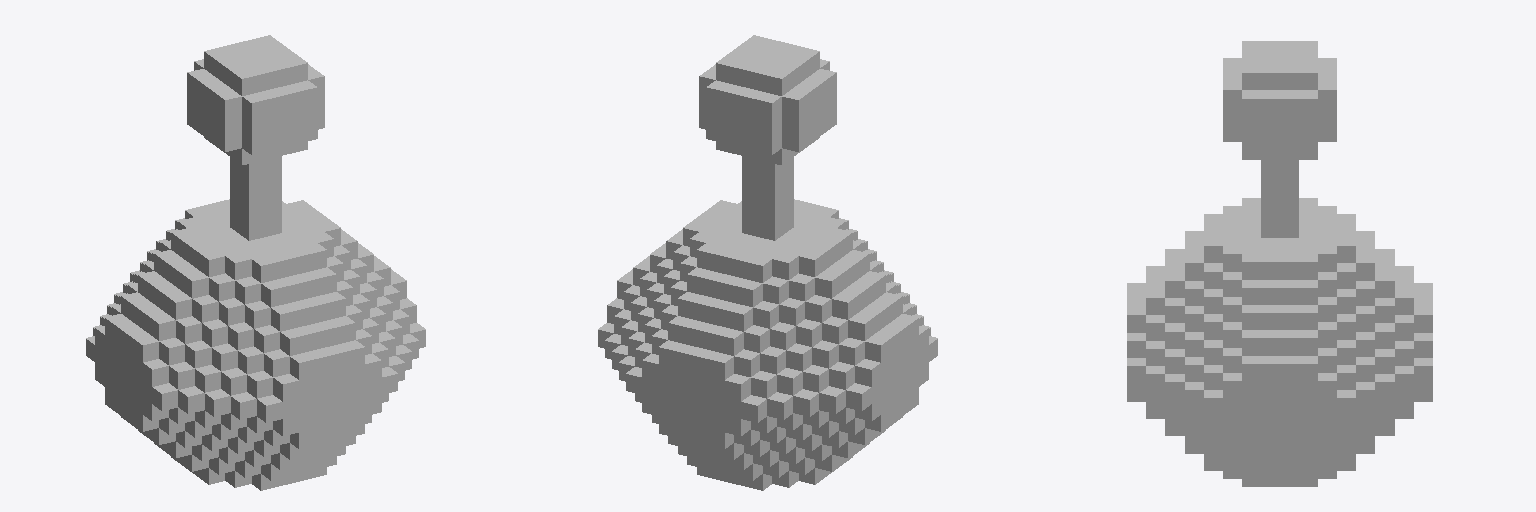
File: Bala con Seguimiento.obj
The picture shows the model from 3 angles: view 1: azimuth 30°, elevation 25°; view 2: azimuth 150°, elevation 25°; view 3: azimuth 270°, elevation 25°; orthographic projection.
Visible parts, largest first — view 1: object 1; view 2: object 1; view 3: object 1.
Part boxes in pixels (bbox=[...]): object 1: bbox=[86, 35, 425, 490]; object 1: bbox=[598, 35, 937, 490]; object 1: bbox=[1127, 41, 1432, 486].
Size of the model in its own units: 1.6 by 2.3 by 1.6.